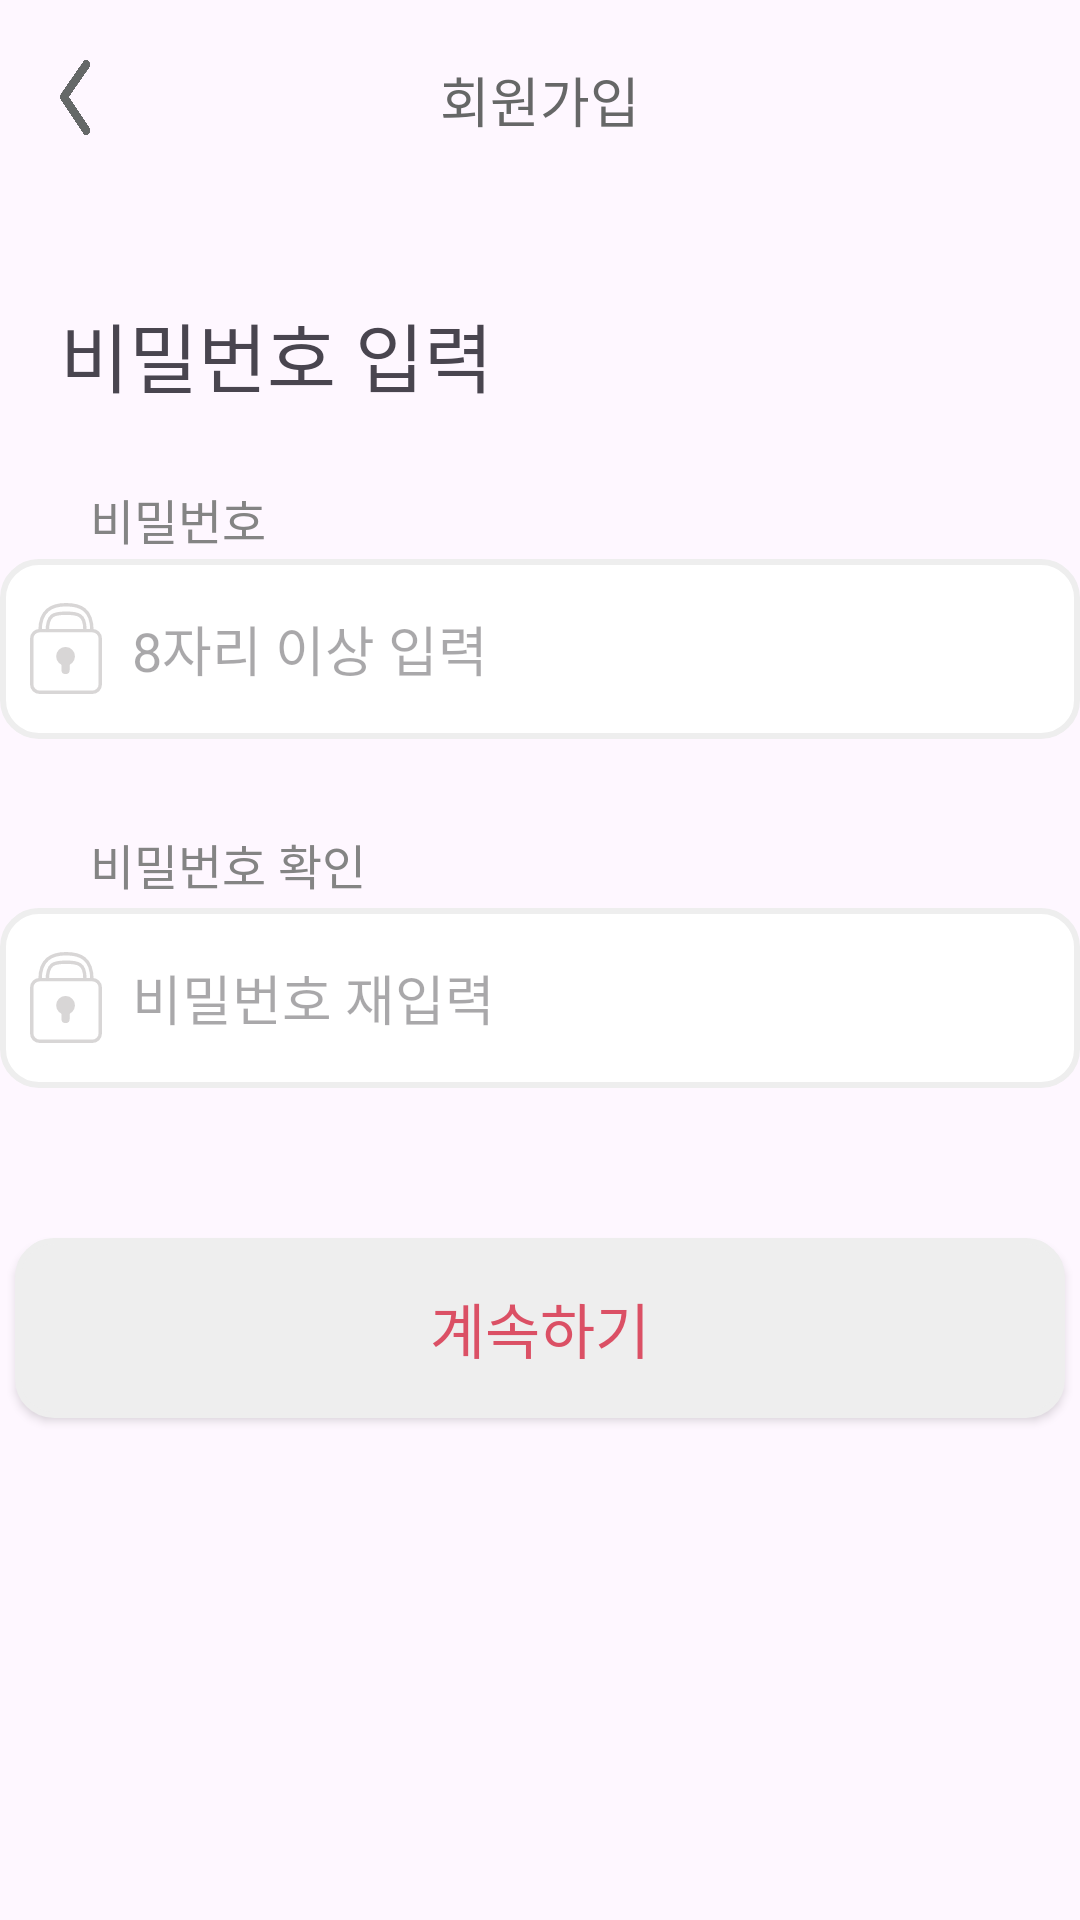

Icon bounding boxes for this 1080×1920 phone screenshot, format (x1, y1, x2, y2):
wlsback: (60, 60, 90, 135)
